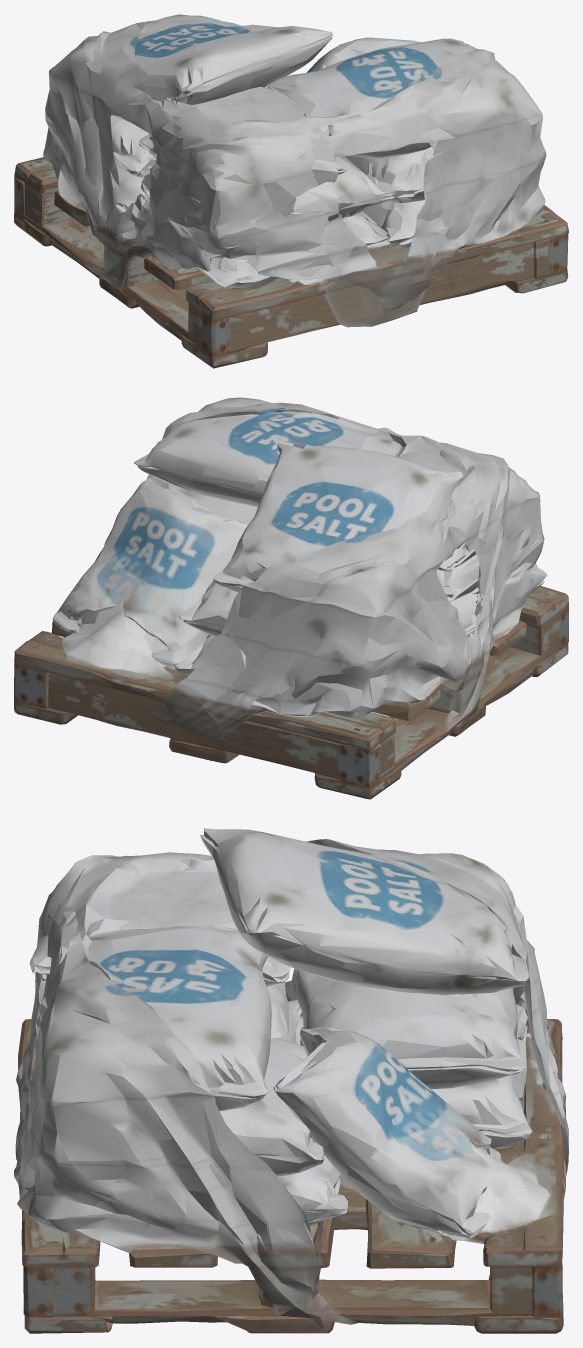
Rendered from sacchi_sale.glb.
3 views of the same model, one above another, from view 1: azimuth 30°, elevation 25°; view 2: azimuth 150°, elevation 25°; view 3: azimuth 270°, elevation 25° (orthographic). The views are drawn at different scales.
Parts seen in each view (by area): view 1: Mesh_0; view 2: Mesh_0; view 3: Mesh_0.
Part boxes in pixels (left/top/right/bottom): Mesh_0: left=14, top=14, right=568, bottom=368; Mesh_0: left=14, top=397, right=568, bottom=799; Mesh_0: left=14, top=828, right=568, bottom=1333.
Bounding box in the file's own units: 1.9 × 1.17 × 1.85.
1 material, 1 textured.
